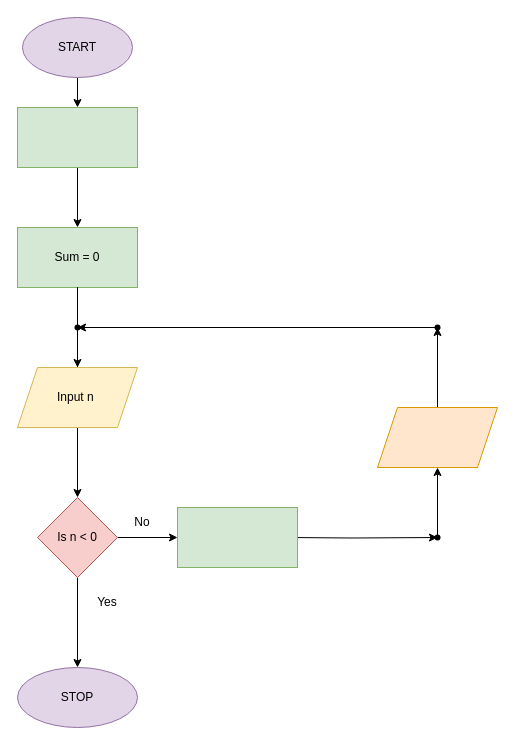
This 515x745 diagram has some shape labels left out. The centre of each missing label's shape, as x and y in pixels:
"Initialize Int n" belongs at point 77,137.
"Print sum" belongs at point 437,437.
"sum +=n" belongs at point 237,537.
